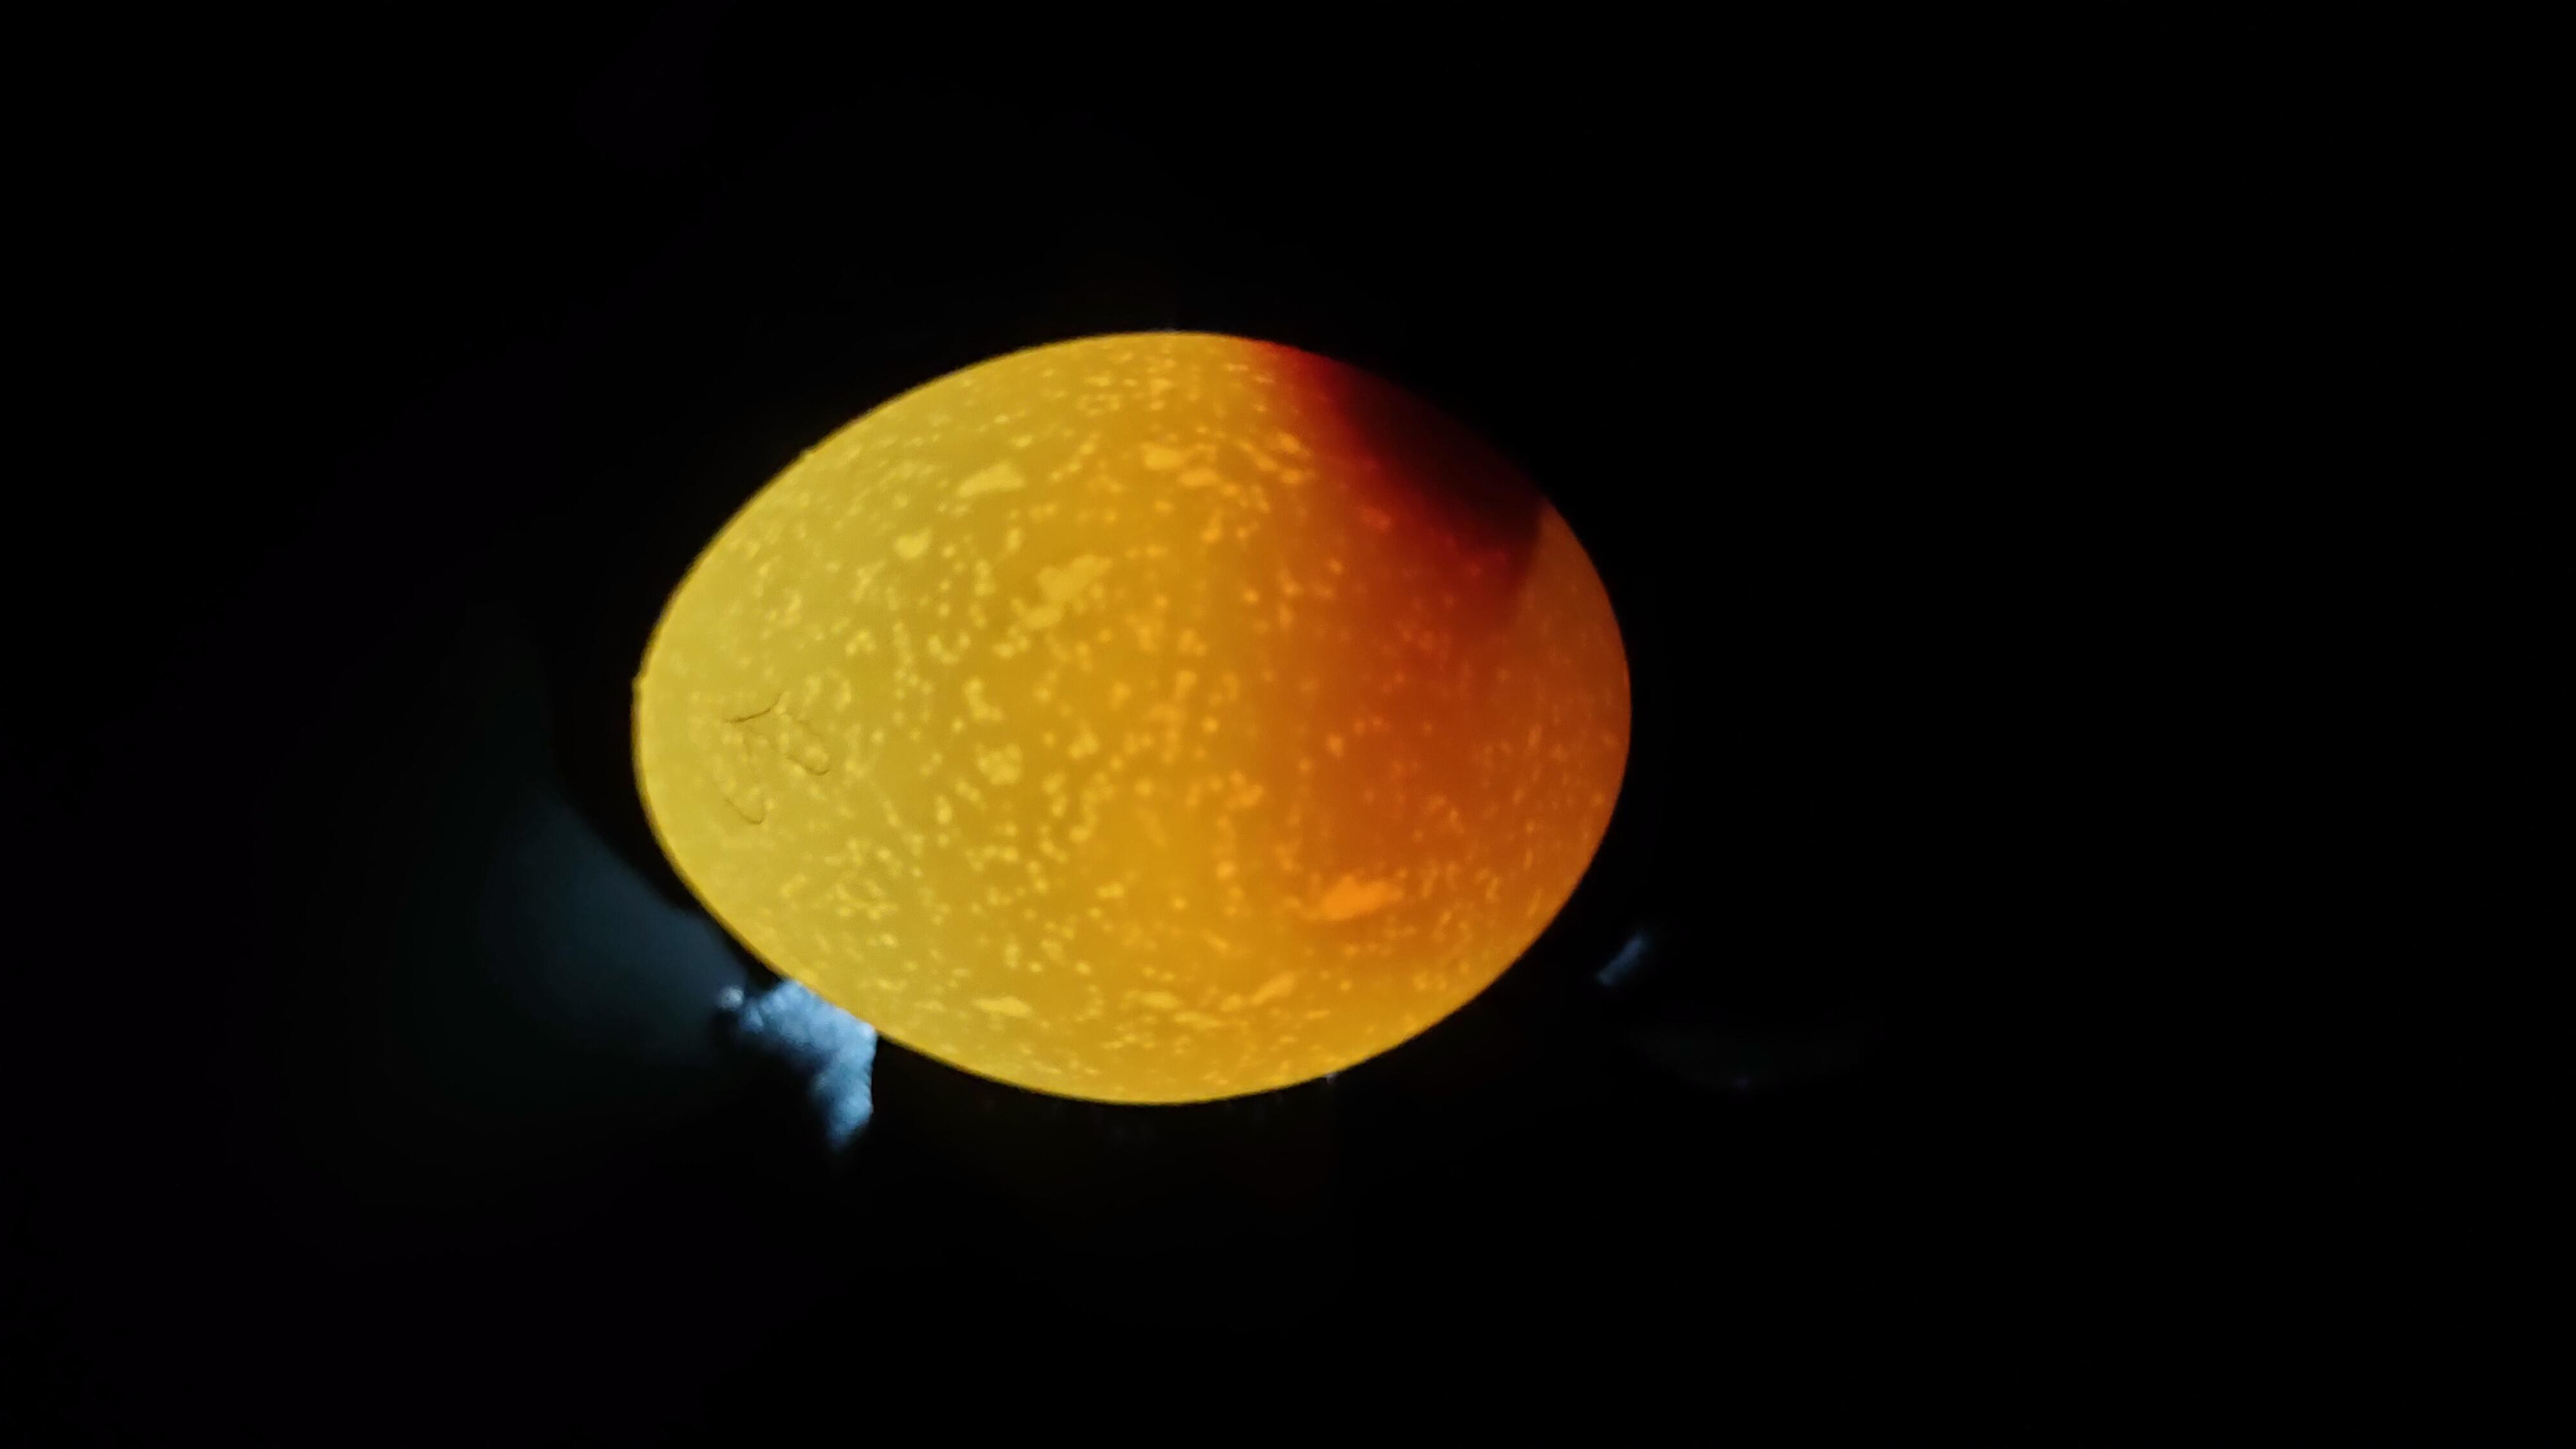AA - Premium: (556, 329, 2089, 934)
